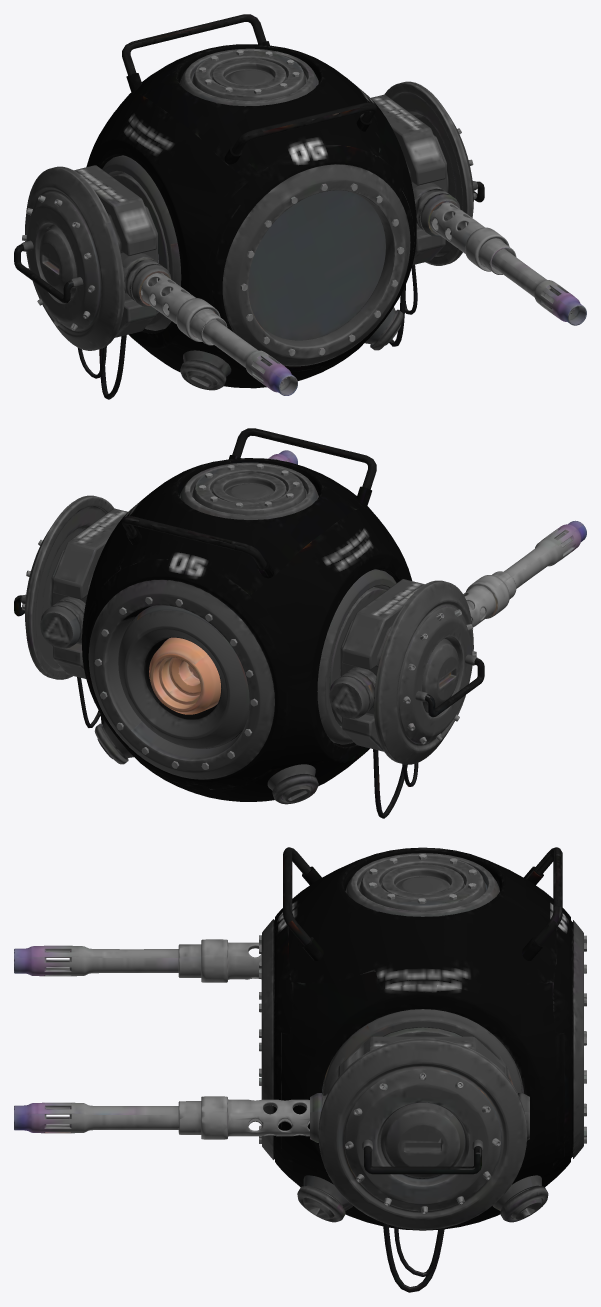
File: Drone.glb
3 views of the same model, one above another, from view 1: azimuth 30°, elevation 25°; view 2: azimuth 150°, elevation 25°; view 3: azimuth 270°, elevation 25° (orthographic). The views are drawn at different scales.
Size of the model in its own units: 1.94 by 1.35 by 2.06.
Materials: 1 (1 with a texture image).
